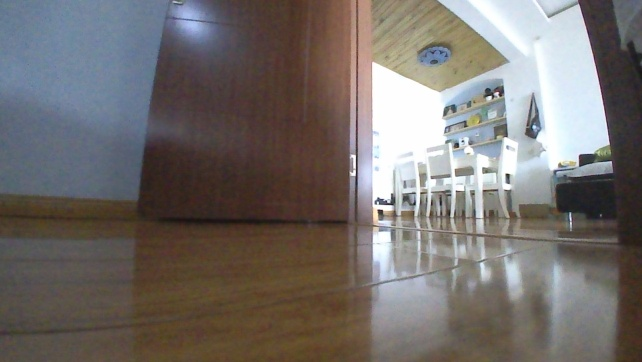dining_table: (390, 132, 528, 220)
door_anno: (133, 0, 373, 224)
sofa1: (547, 157, 616, 226)
